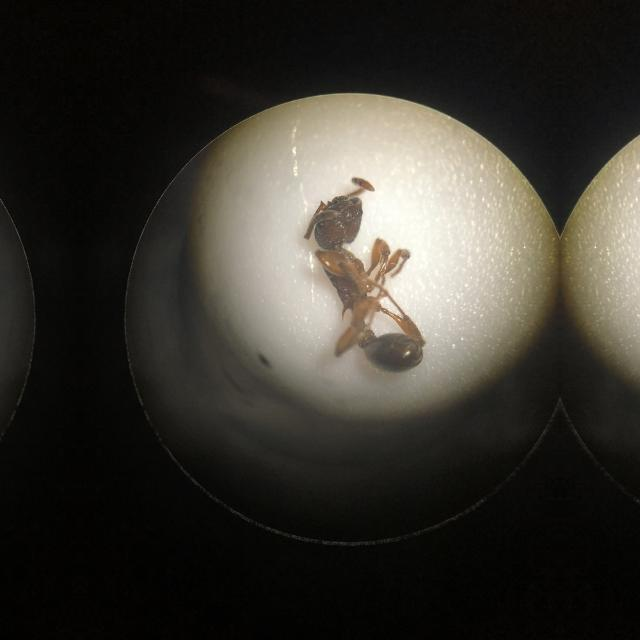Myrmica: (300, 168, 436, 396)
